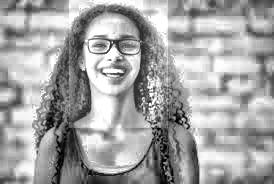happy: (70, 0, 169, 128)
